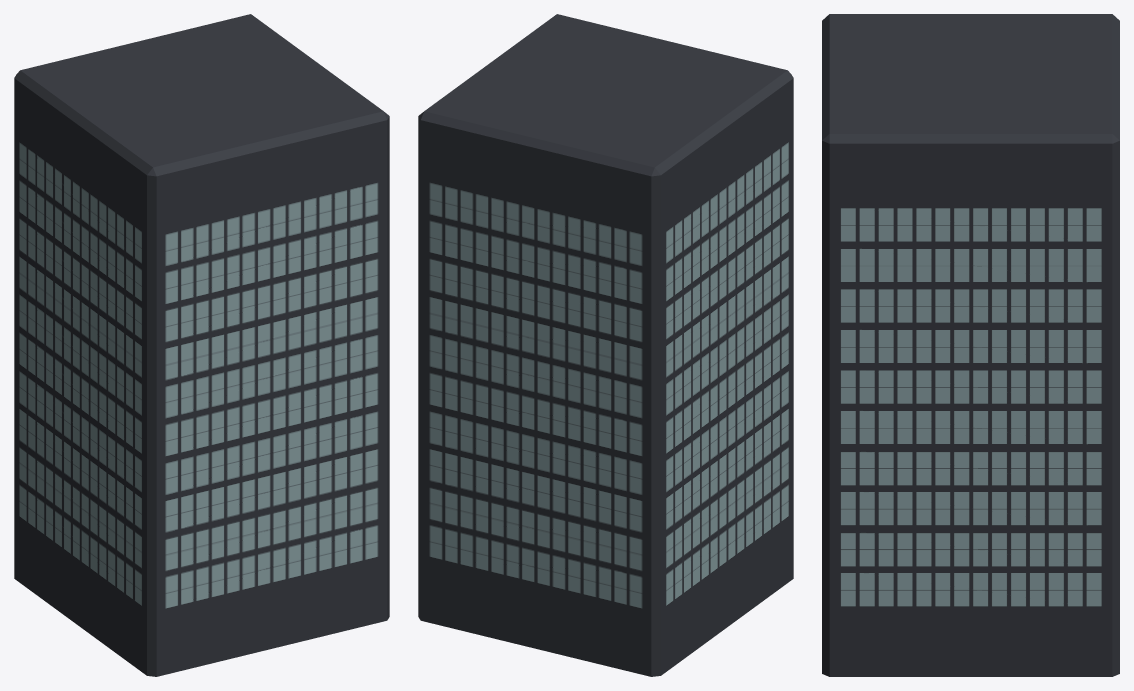
Rendered from Mob building_A.fbx.
The picture shows the model from 3 angles, left to right: view 1: azimuth 30°, elevation 25°; view 2: azimuth 150°, elevation 25°; view 3: azimuth 270°, elevation 25°; orthographic projection. The views are drawn at different scales.
Parts seen in each view (by area): view 1: Mob building_A; view 2: Mob building_A; view 3: Mob building_A.
Part boxes in pixels (<box>): Mob building_A: <box>14,14,389,676</box>; Mob building_A: <box>418,14,793,676</box>; Mob building_A: <box>822,14,1119,676</box>.
Bounding box in the file's own units: 20.05 × 20 × 40.
